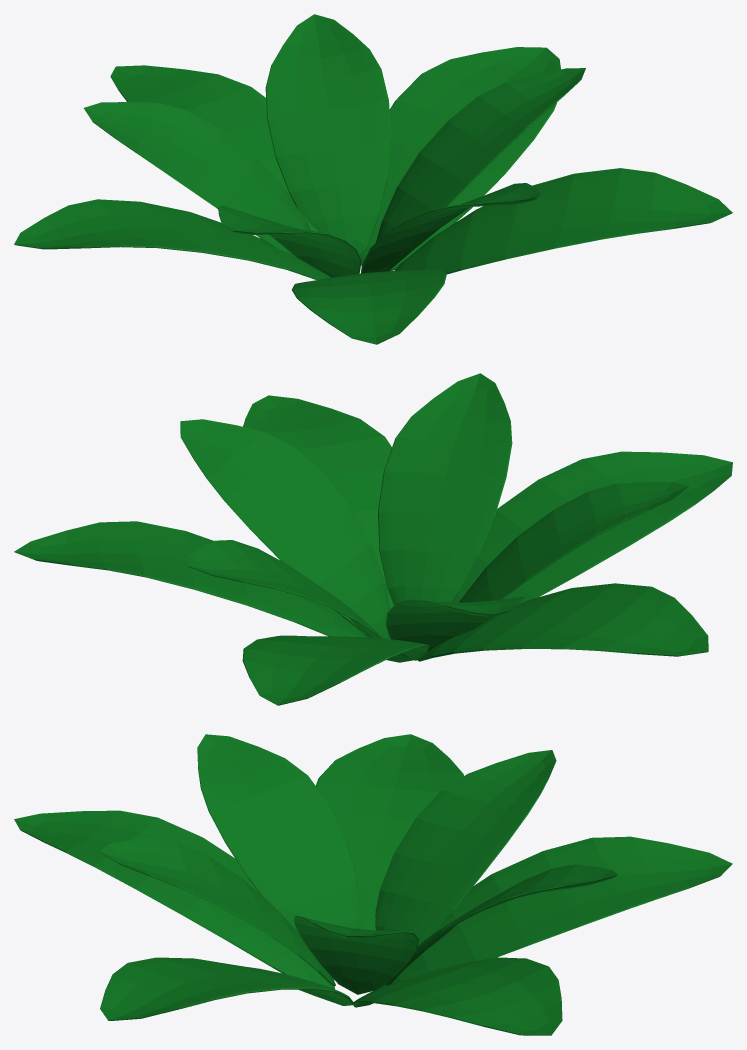
The model's file is Bush.glb.
The picture shows the model from 3 angles, top to bottom: view 1: azimuth 30°, elevation 25°; view 2: azimuth 150°, elevation 25°; view 3: azimuth 270°, elevation 25°; orthographic projection. The views are drawn at different scales.
Visible parts, largest first — view 1: Bush 1; view 2: Bush 1; view 3: Bush 1.
Part boxes in pixels (<box>): Bush 1: <box>14,14,732,344</box>; Bush 1: <box>14,373,732,705</box>; Bush 1: <box>14,734,732,1035</box>.
Size of the model in its own units: 1.65 by 0.4395 by 1.66.
Materials: 1 (1 with a texture image).
